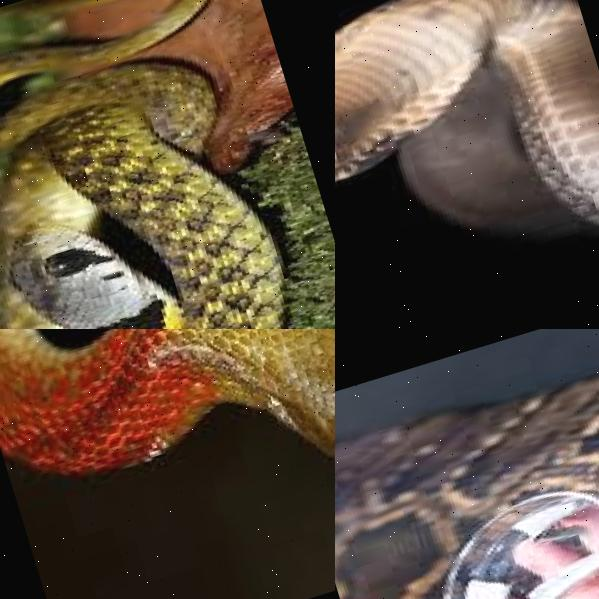1: (335, 0, 599, 329)
2: (0, 0, 335, 329), (0, 329, 335, 599)
snake: (335, 329, 599, 599)
